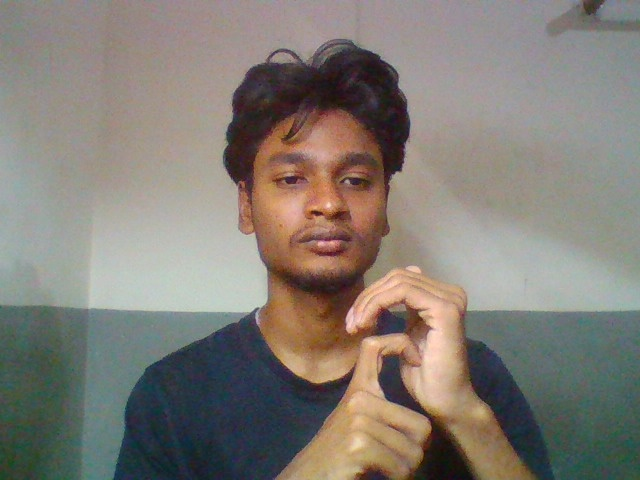G: (298, 246, 504, 479)
